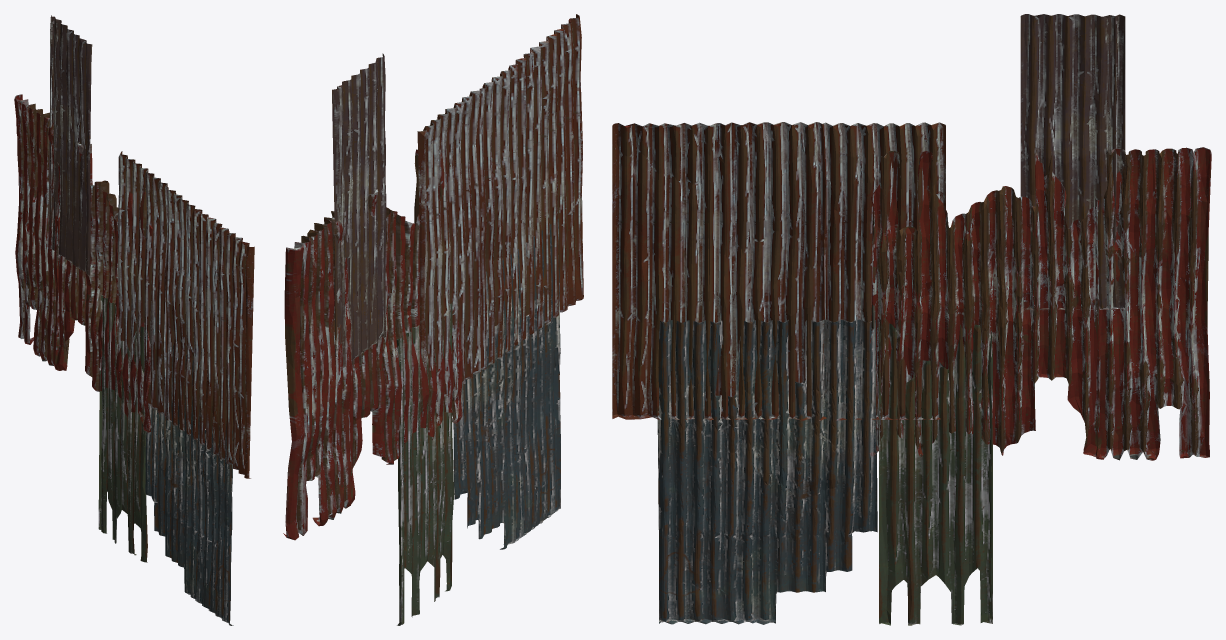
File: SM_Corrugated_Metal_1.fbx
3 renders of one model, left to right at view 1: azimuth 30°, elevation 25°; view 2: azimuth 150°, elevation 25°; view 3: azimuth 270°, elevation 25°, orthographic. The views are drawn at different scales.
Visible parts, largest first — view 1: SM_Corrugated_Metal_1_LOD0; view 2: SM_Corrugated_Metal_1_LOD0; view 3: SM_Corrugated_Metal_1_LOD0.
Part boxes in pixels (x1,y1,x2,y2): SM_Corrugated_Metal_1_LOD0: (14, 15, 254, 625); SM_Corrugated_Metal_1_LOD0: (283, 14, 583, 625); SM_Corrugated_Metal_1_LOD0: (612, 14, 1211, 625).
Size of the model in its own units: 14.43 by 354 by 398.
1 material, 1 textured.
